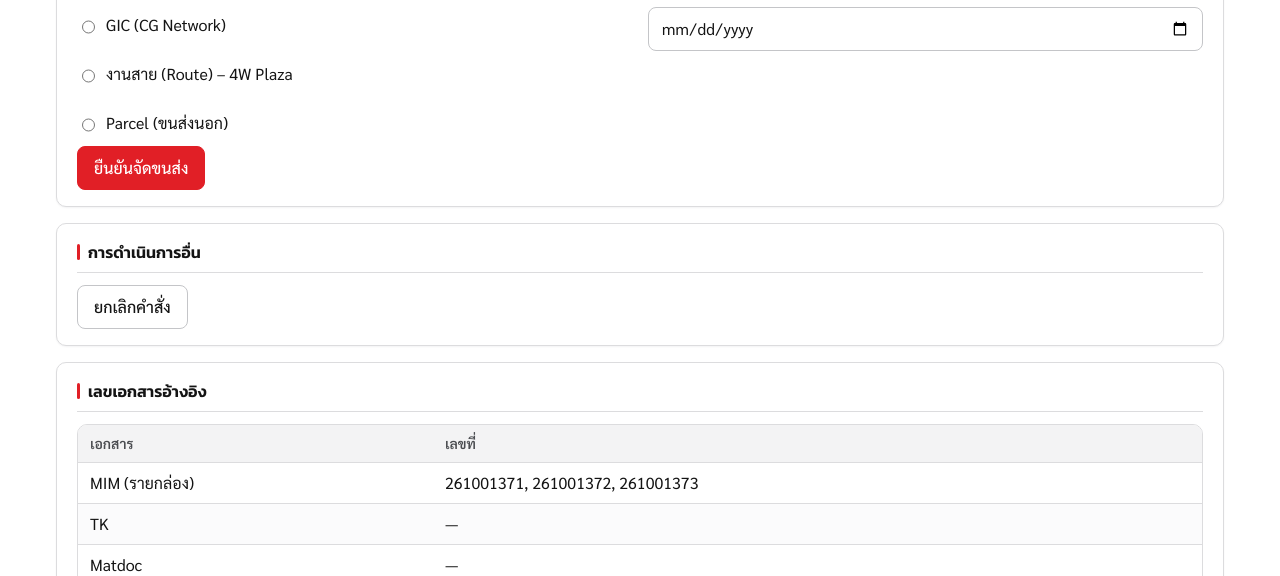
Scenario: cancel needs a reason, then cancels the order
(page scrolled)
Click the button "ยกเลิกคำสั่ง" at (132, 307), box [77,285,188,329]
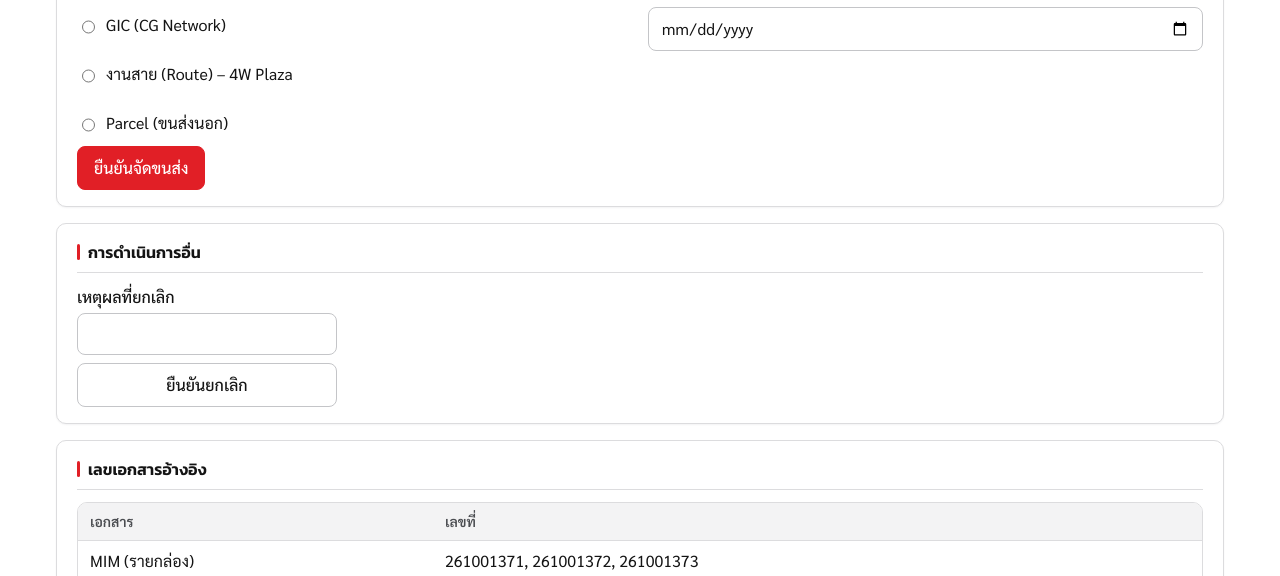
Click the button "ยืนยันยกเลิก" at (207, 385), box [77,363,337,407]
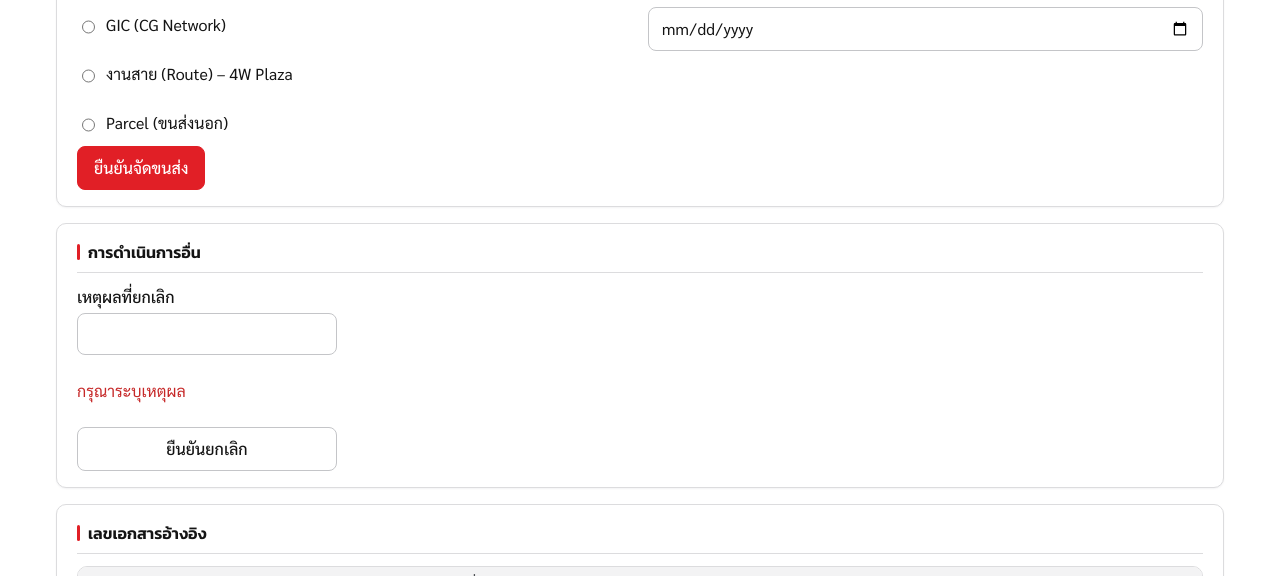
expect the text "กรุณาระบุเหตุผล" is shown: met, box [77,380,186,401]
Type "ร้านแจ้งผิด" into the field labelled "เหตุผลที่ยกเลิก" at (207, 334), box [77,313,337,355]
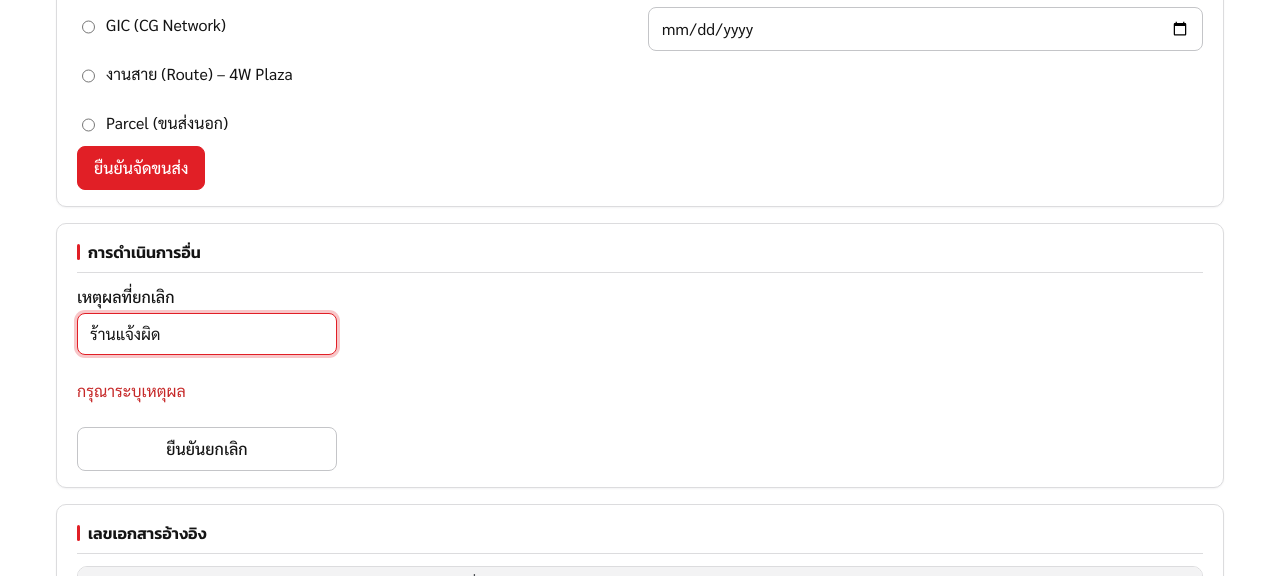
Click the button "ยืนยันยกเลิก" at (207, 449), box [77,427,337,471]
(page scrolled)
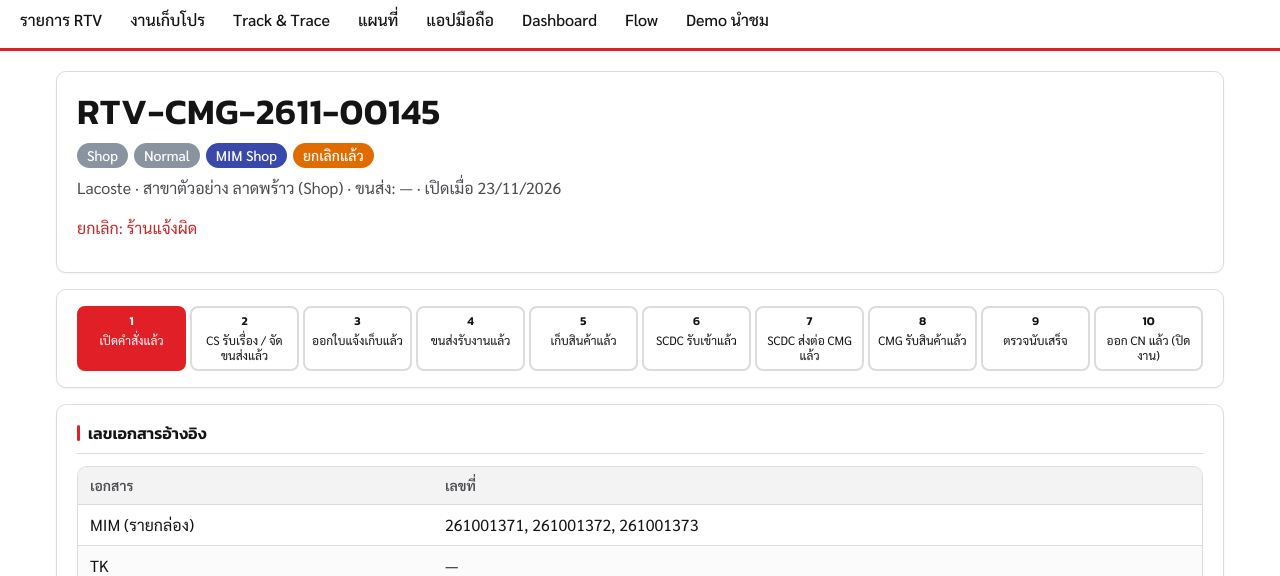
expect the text "ยกเลิก: ร้านแจ้งผิด" is shown: met, box [77,217,197,238]
